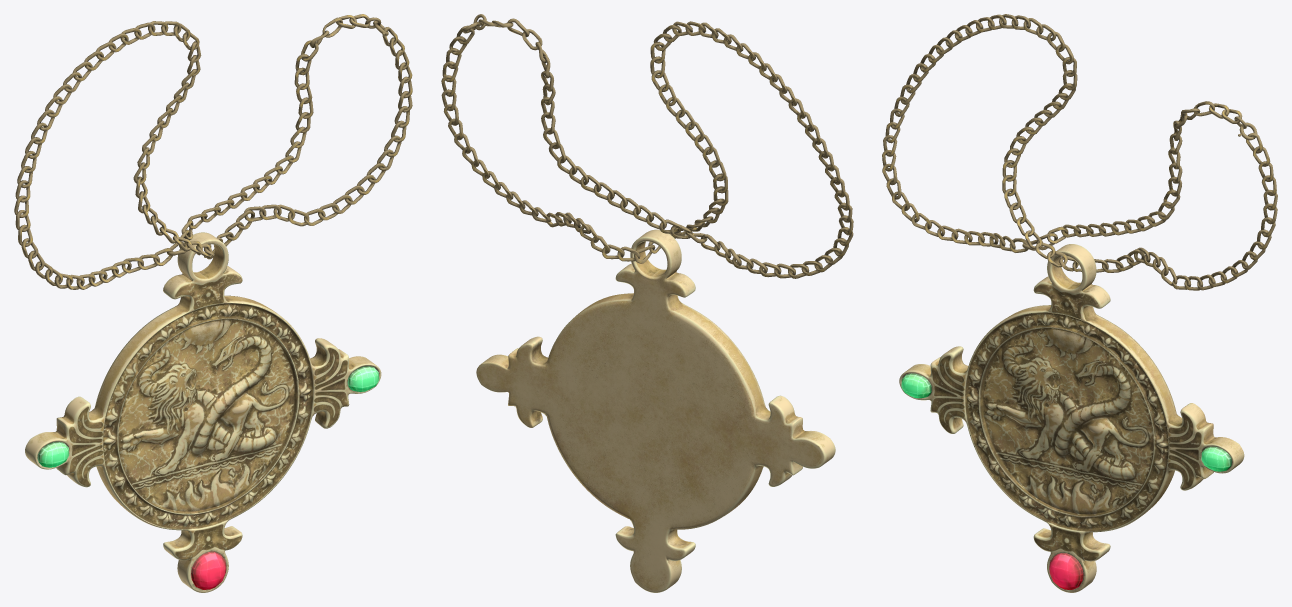
The model's file is Talisman.fbx.
3 renders of one model, left to right at view 1: azimuth 30°, elevation 25°; view 2: azimuth 150°, elevation 25°; view 3: azimuth 330°, elevation 25°, orthographic. The views are drawn at different scales.
Parts seen in each view (by area): view 1: Medaglione__low, Catenina_low, medaglione_wip19_LP, medaglione_wip19_LP.001; view 2: Medaglione__low, Catenina_low; view 3: Medaglione__low, Catenina_low, medaglione_wip19_LP, medaglione_wip19_LP.001.
Boxes of the visible parts, <box> form: Medaglione__low: <box>25,232,381,592</box>; Catenina_low: <box>14,14,412,289</box>; medaglione_wip19_LP: <box>37,366,379,467</box>; medaglione_wip19_LP.001: <box>191,551,226,589</box>; Medaglione__low: <box>476,229,835,592</box>; Catenina_low: <box>441,14,853,278</box>; Medaglione__low: <box>899,244,1244,592</box>; Catenina_low: <box>882,14,1277,290</box>; medaglione_wip19_LP: <box>901,373,1231,471</box>; medaglione_wip19_LP.001: <box>1049,553,1083,589</box>.
Bounding box in the file's own units: 146 × 200 × 17.58.
